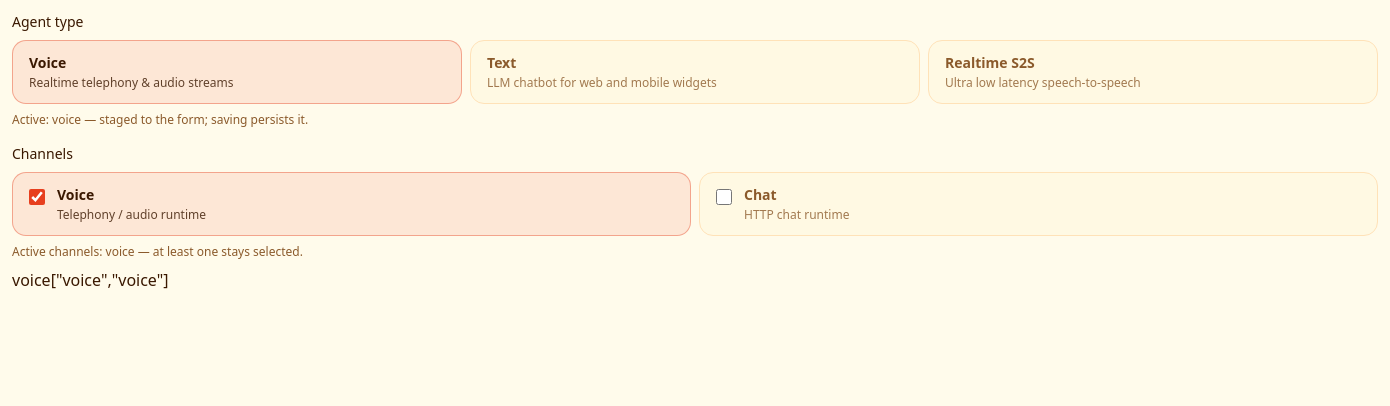
ChannelSwitcher › dedupes channel selections
The width and height of the screenshot is (1390, 406).
# Adding chat collapses the duplicate voice instead of emitting 3 entries.
Click the checkbox named "Chat channel". click: (724, 197)
box: x1=716 y1=189 x2=732 y2=205
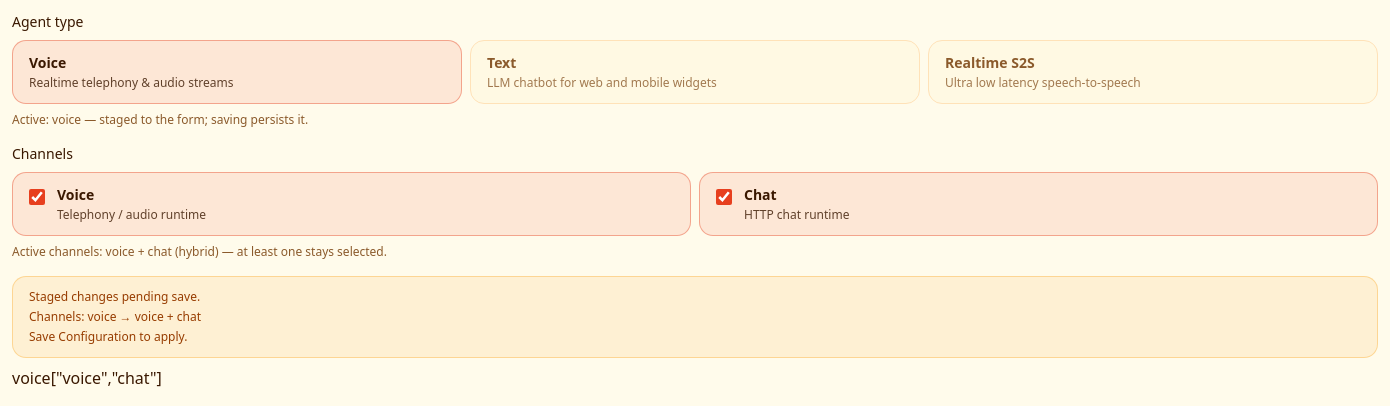
expect the text with test id "channels-probe" reads "[\"voice\",\"chat\"]": met, box x1=51 y1=367 x2=162 y2=389
